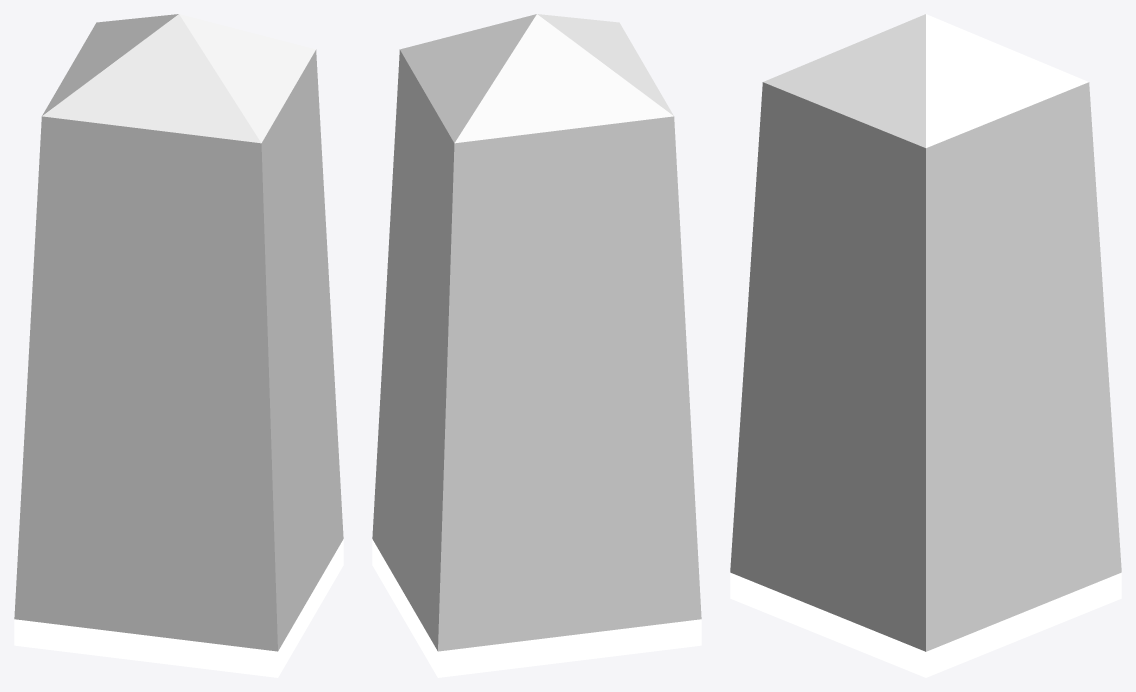
Rendered from lightCaged.glb.
3 views of the same model, side by side, from view 1: azimuth 30°, elevation 25°; view 2: azimuth 150°, elevation 25°; view 3: azimuth 270°, elevation 25° (orthographic).
Visible parts, largest first — view 1: light_Caged; view 2: light_Caged; view 3: light_Caged.
Boxes of the visible parts, <box> form: light_Caged: <box>14,14,343,677</box>; light_Caged: <box>372,14,701,677</box>; light_Caged: <box>730,14,1121,677</box>.
Size of the model in its own units: 0.288 by 0.4944 by 0.3002.
Materials: 2 (2 with a texture image).
